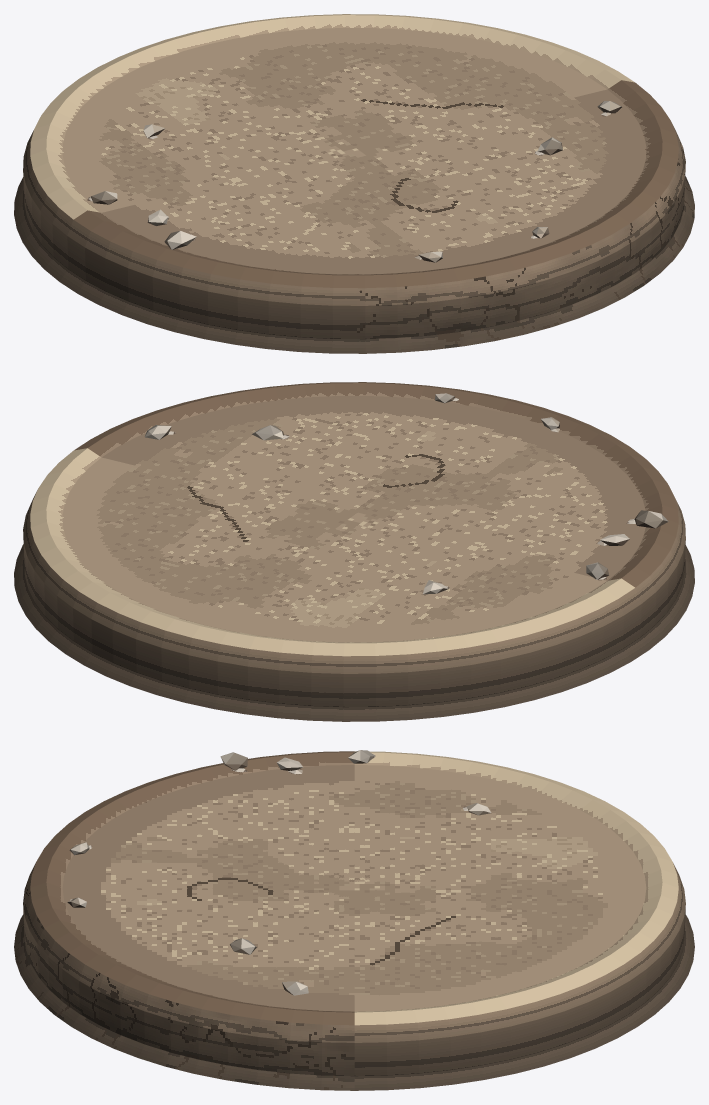
The model's file is platform_mountain.glb.
3 renders of one model, top to bottom at view 1: azimuth 30°, elevation 25°; view 2: azimuth 150°, elevation 25°; view 3: azimuth 270°, elevation 25°, orthographic.
Visible parts, largest first — view 1: platform_mountain, plat_mountain; view 2: platform_mountain, plat_mountain; view 3: platform_mountain, plat_mountain.
Boxes of the visible parts, x1,y1,x2,y2 form: platform_mountain: (14,14,694,353); plat_mountain: (87,101,621,262); platform_mountain: (14,382,694,721); plat_mountain: (145,393,668,594); platform_mountain: (14,751,694,1090); plat_mountain: (67,750,491,995).
Size of the model in its own units: 2.1 by 0.273 by 2.1.
Materials: 3 (2 with a texture image).
